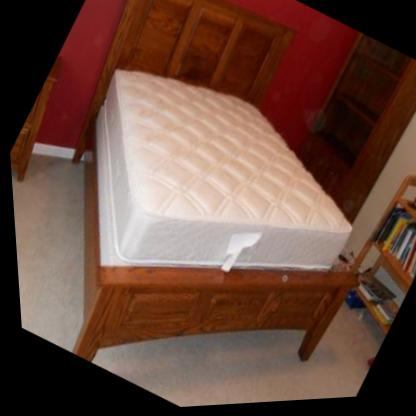Bed: (67, 0, 354, 364)
